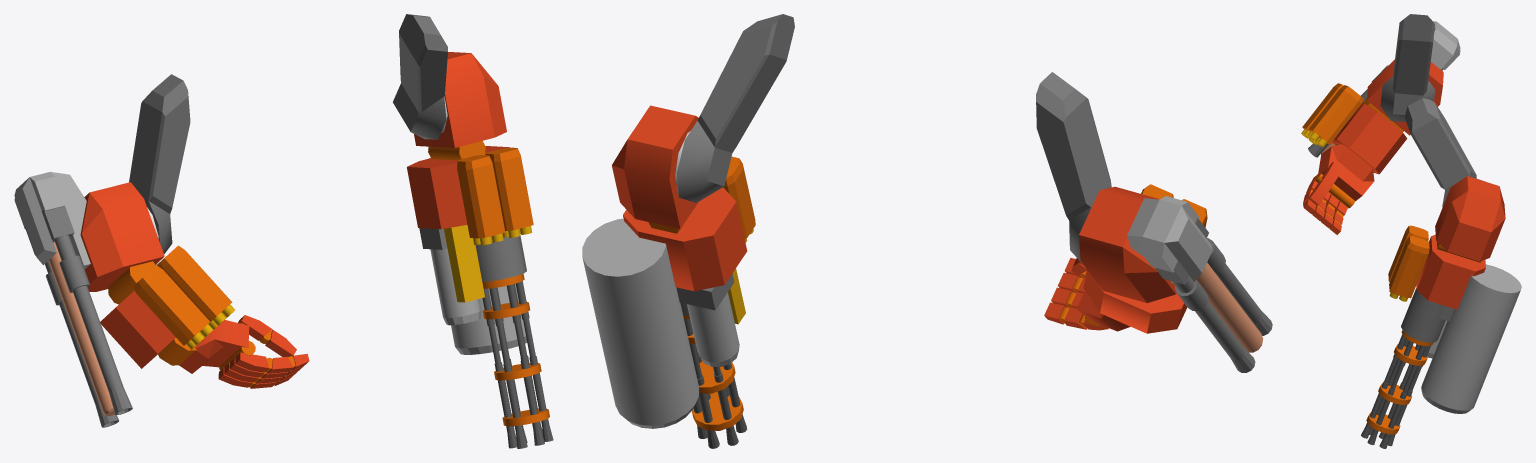
Rendered from Mech_red_arms.fbx.
3 renders of one model, left to right at view 1: azimuth 30°, elevation 25°; view 2: azimuth 150°, elevation 25°; view 3: azimuth 270°, elevation 25°, orthographic. The views are drawn at different scales.
Visible parts, largest first — view 1: La2.001, Ra2.001, Ra3.001, Ra1.001, Ra05.001, La1.001; view 2: La2.001, Ra2.001, La1.001, Ra1.001, Ra3.001, Ra05.001; view 3: La2.001, Ra3.001, Ra1.001, Ra05.001, La1.001, Ra2.001.
Boxes of the visible parts, left/top/right/bottom form: La2.001: left=407, top=52, right=553, bottom=448; Ra2.001: left=14, top=172, right=164, bottom=427; Ra3.001: left=100, top=245, right=234, bottom=368; Ra1.001: left=129, top=74, right=190, bottom=264; Ra05.001: left=179, top=315, right=309, bottom=388; La1.001: left=393, top=14, right=447, bottom=139; La2.001: left=582, top=105, right=755, bottom=448; Ra2.001: left=1079, top=186, right=1272, bottom=372; La1.001: left=675, top=14, right=794, bottom=202; Ra1.001: left=1036, top=72, right=1111, bottom=263; Ra3.001: left=1083, top=184, right=1207, bottom=333; Ra05.001: left=1044, top=257, right=1130, bottom=331; La2.001: left=1361, top=176, right=1521, bottom=448; Ra3.001: left=1301, top=83, right=1407, bottom=174; Ra1.001: left=1380, top=14, right=1435, bottom=122; Ra05.001: left=1303, top=144, right=1374, bottom=234; La1.001: left=1405, top=98, right=1481, bottom=207; Ra2.001: left=1308, top=21, right=1460, bottom=157.
Size of the model in its own units: 1.92 by 1.55 by 0.9801.
